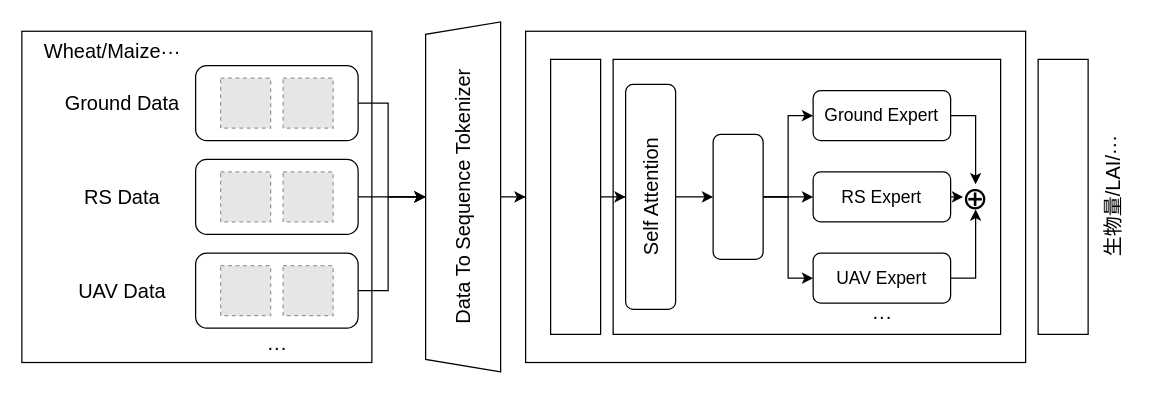
Some shapes in this 1154 by 394 pixel diagram are drawn without their labels. Grey dashed boxes stand in for pictures. Each missing label, with the centre of its shape:
"AvgPool" belongs at pixel 1062 196.
"Crop Router" belongs at pixel 737 196.
"Dense Encoder Layer" belongs at pixel 575 196.
